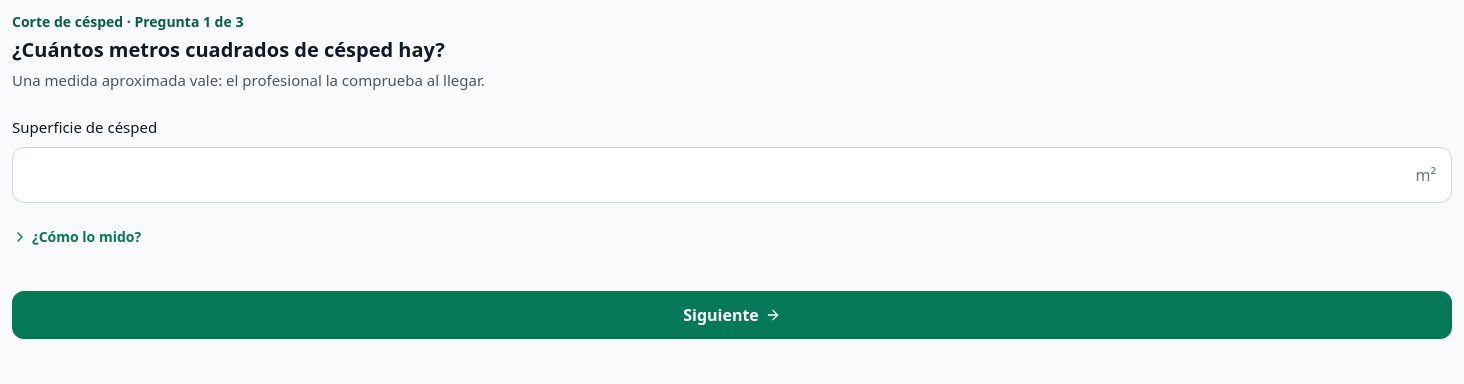
Scenario: campo numérico (P-15, D-07, P-10) › «1.000» en una superficie son mil, y se dice cómo se ha leído
The width and height of the screenshot is (1464, 384).
Type "1.000" into the field labelled "Superficie de césped" at (732, 174), box [12,146,1452,202]
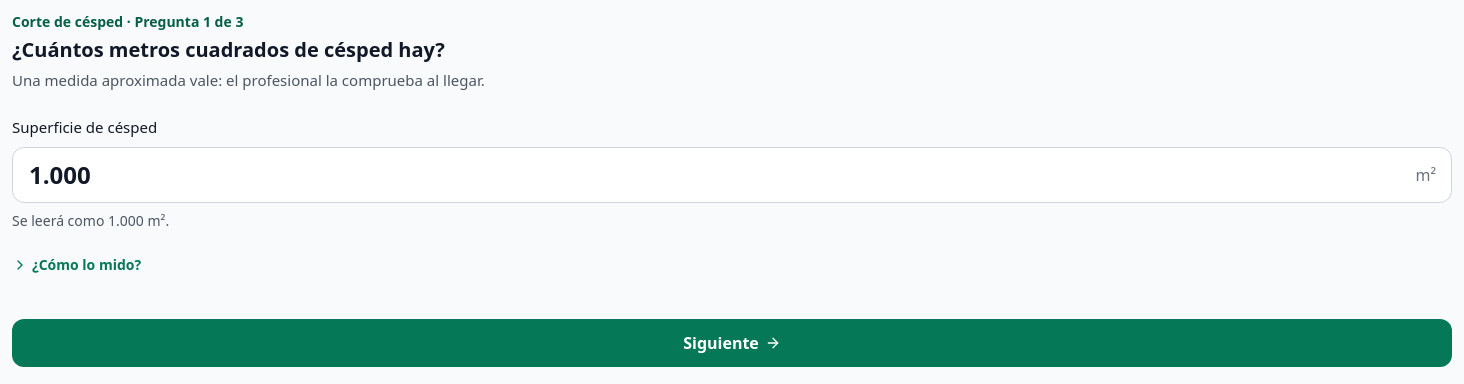
Now the text "Se leerá como 1.000 m²." is shown, box [12,210,169,230]
